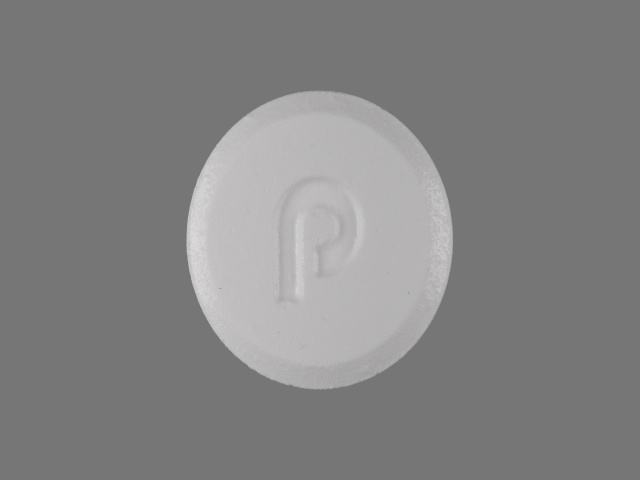P: (272, 167, 362, 313)
